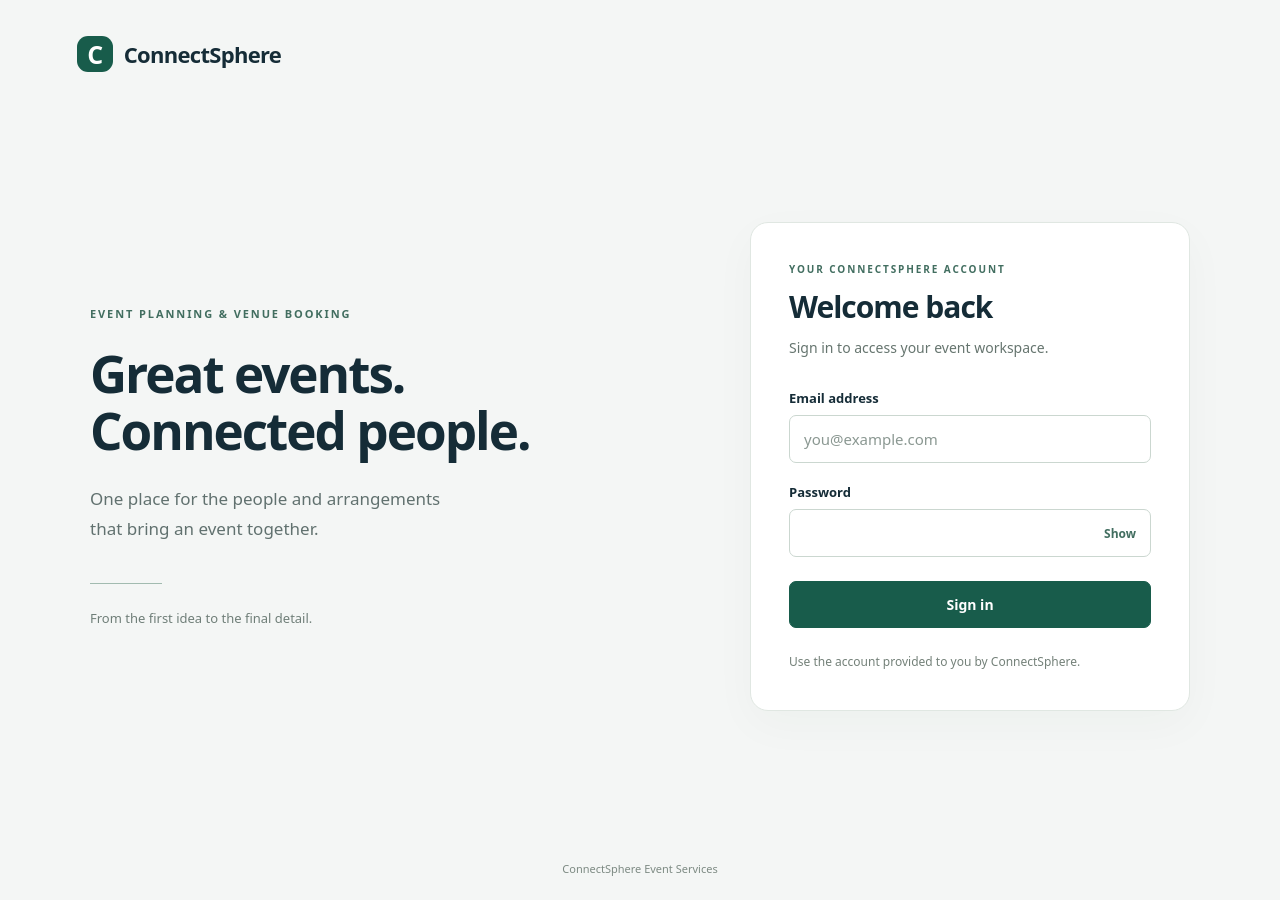
Test: [AUTH-FLOW-002] Rejected credentials leave protected account information inaccessible
Type "user@client.sg" into the field labelled "Email address" at (970, 439), box [789,415,1151,463]
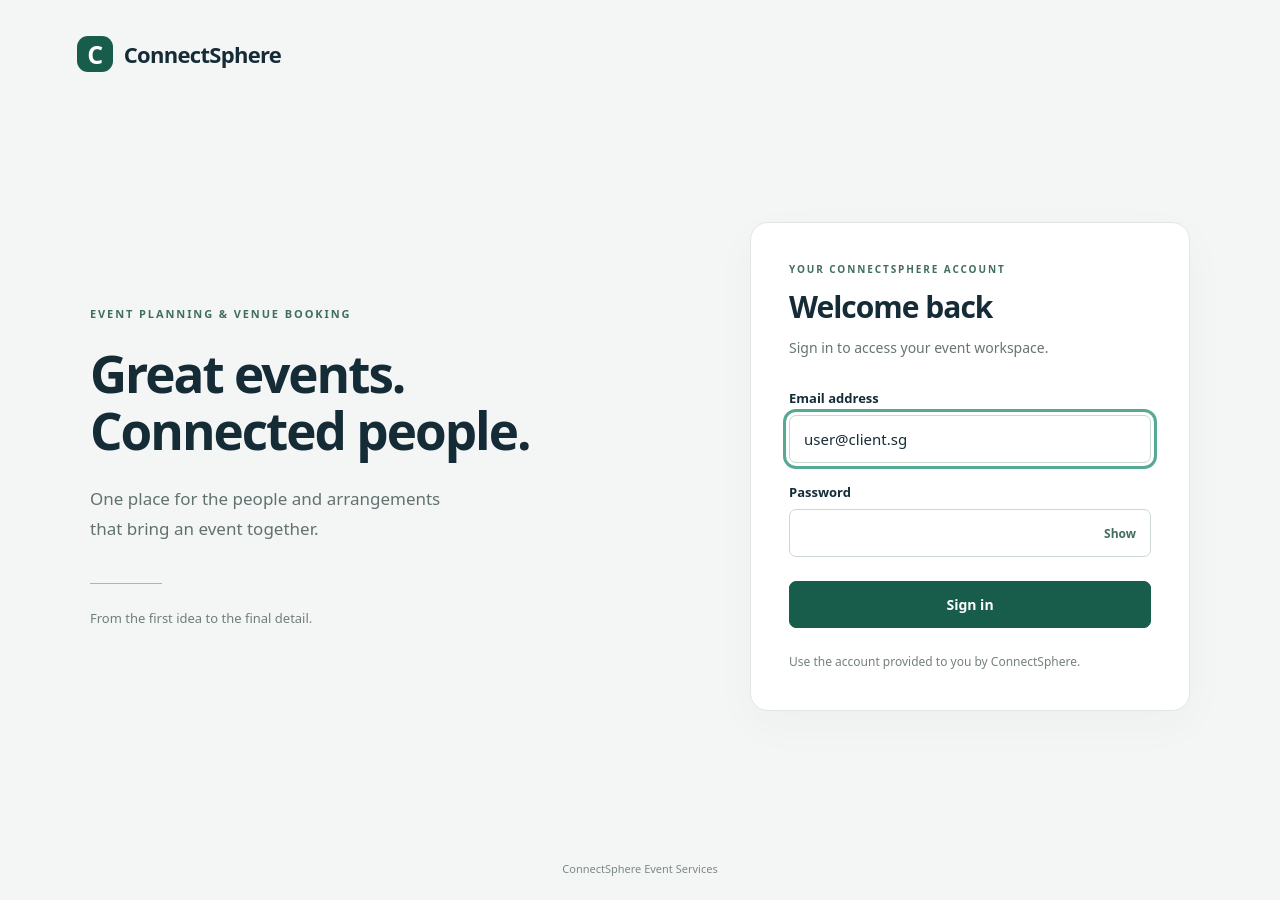
Type "WrongPassword!" into the password field labelled "Password" at (970, 533), box [789,509,1151,557]
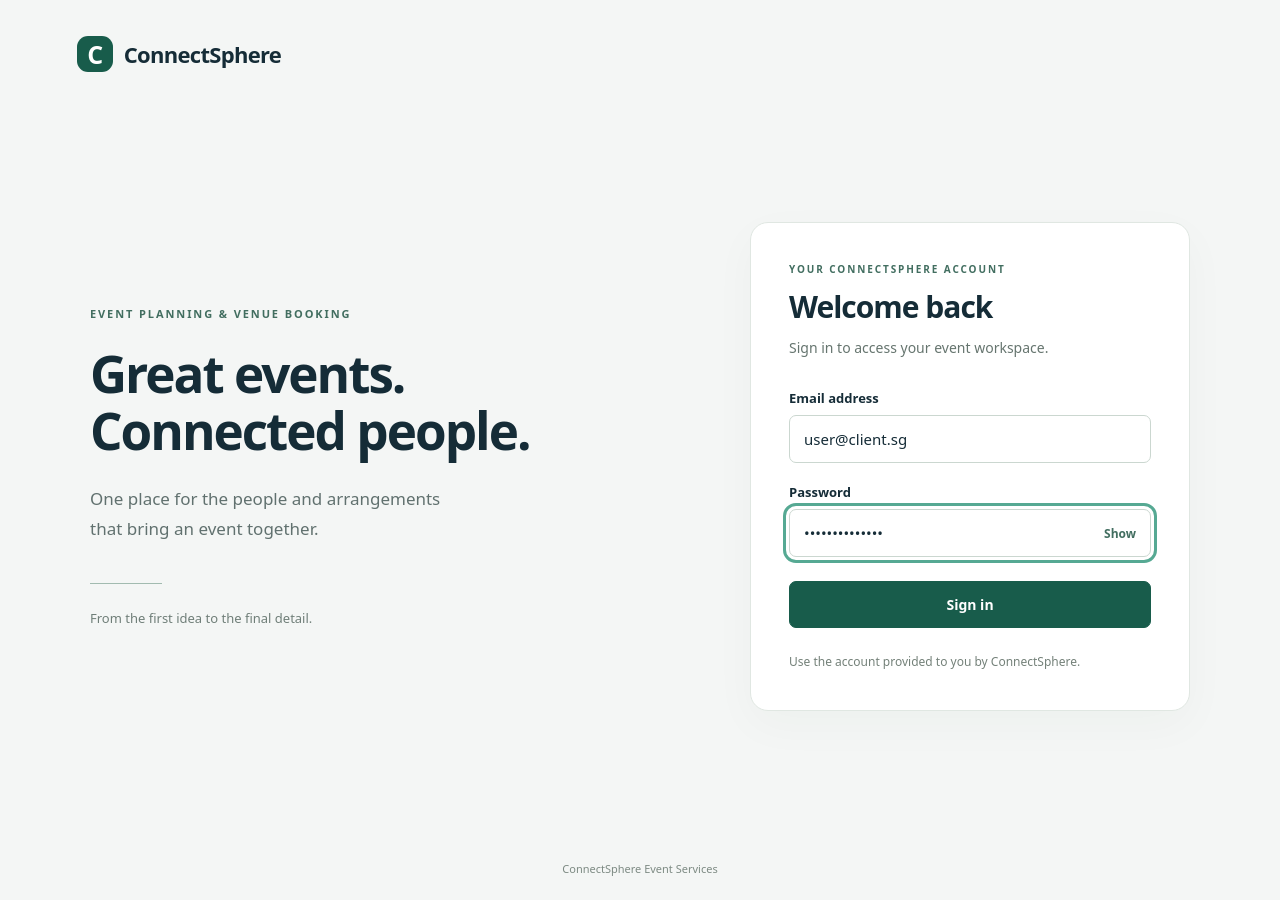
Click the button "Sign in" at (970, 604), box [789,581,1151,628]
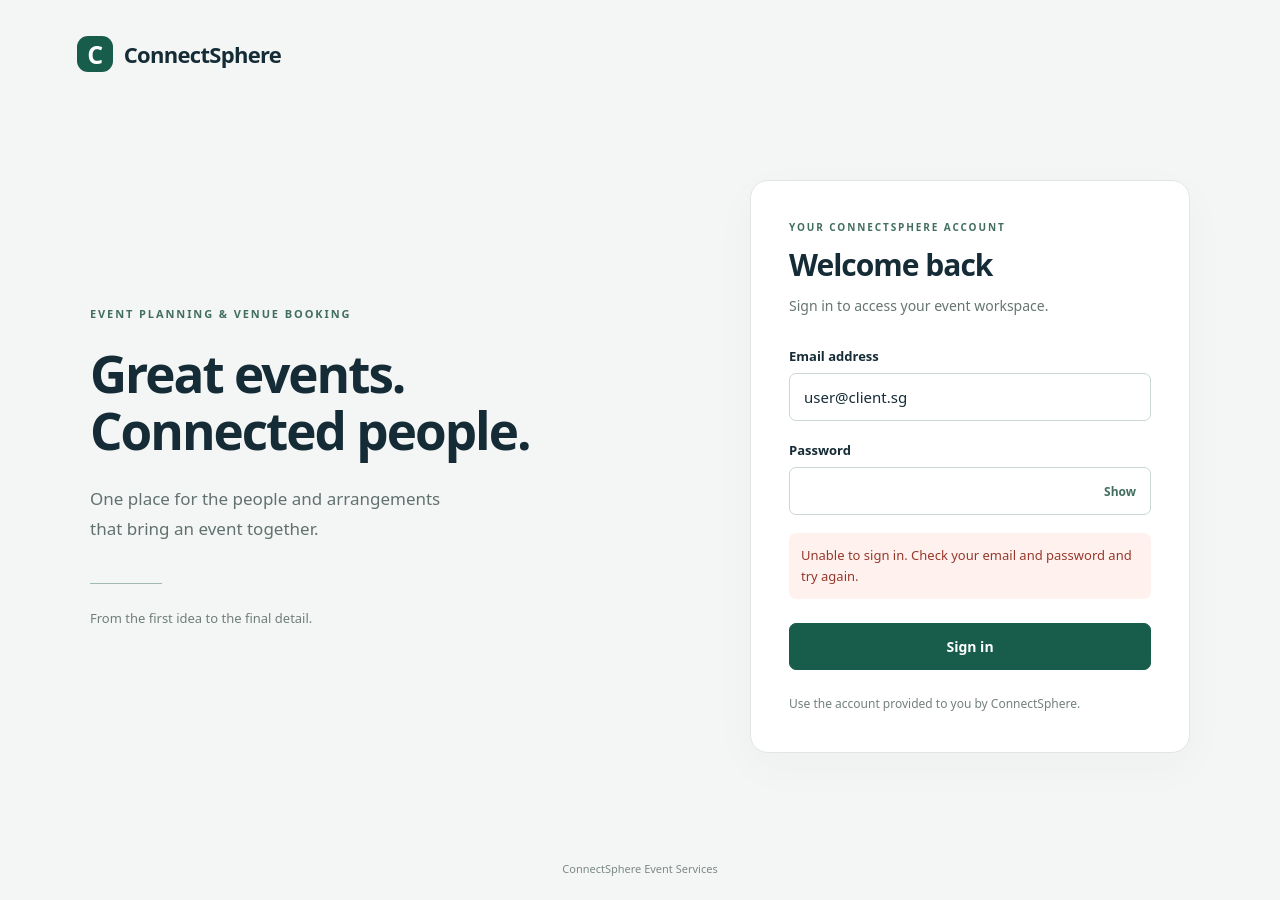
Now the message "Unable to sign in. Check your email and password and try again." is shown, box [789,533,1151,599]
